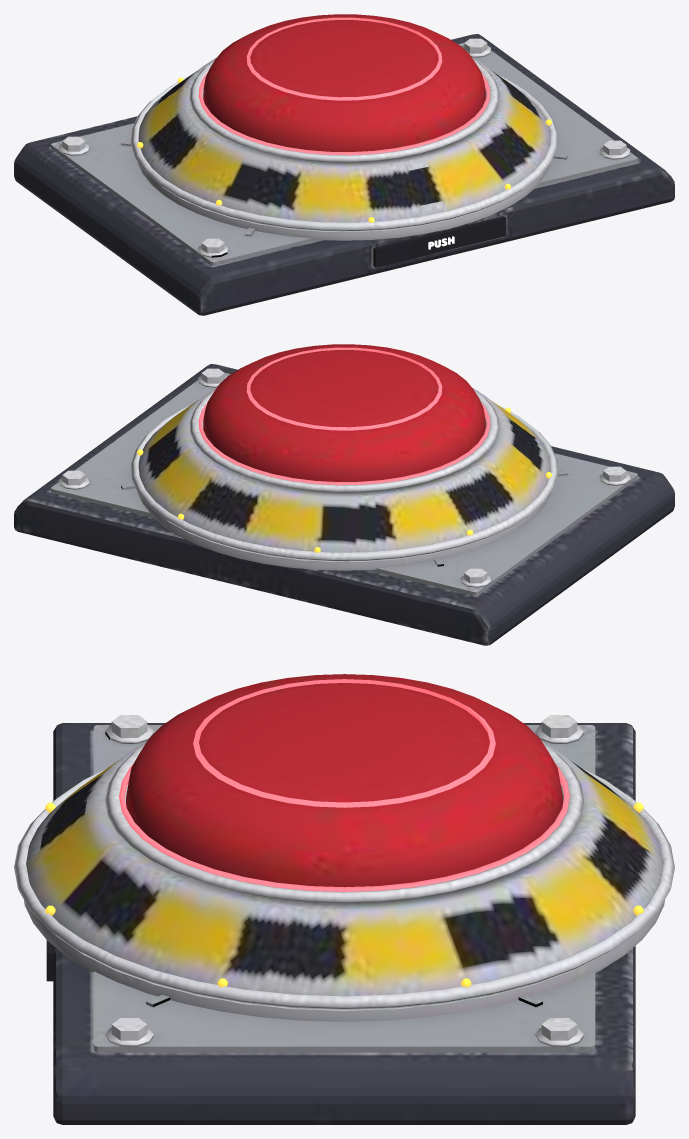
File: button.glb
3 renders of one model, top to bottom at view 1: azimuth 30°, elevation 25°; view 2: azimuth 150°, elevation 25°; view 3: azimuth 270°, elevation 25°, orthographic. The views are drawn at different scales.
Parts seen in each view (by area): view 1: body, cap_mesh; view 2: body, cap_mesh; view 3: body, cap_mesh.
Part boxes in pixels (<box>): body: <box>14,34,674,315</box>; cap_mesh: <box>203,14,485,151</box>; body: <box>14,364,674,645</box>; cap_mesh: <box>203,344,485,481</box>; body: <box>14,715,674,1124</box>; cap_mesh: <box>126,674,562,887</box>.
Bounding box in the file's own units: 1.9 × 0.52 × 1.48.
4 materials, 1 textured.
